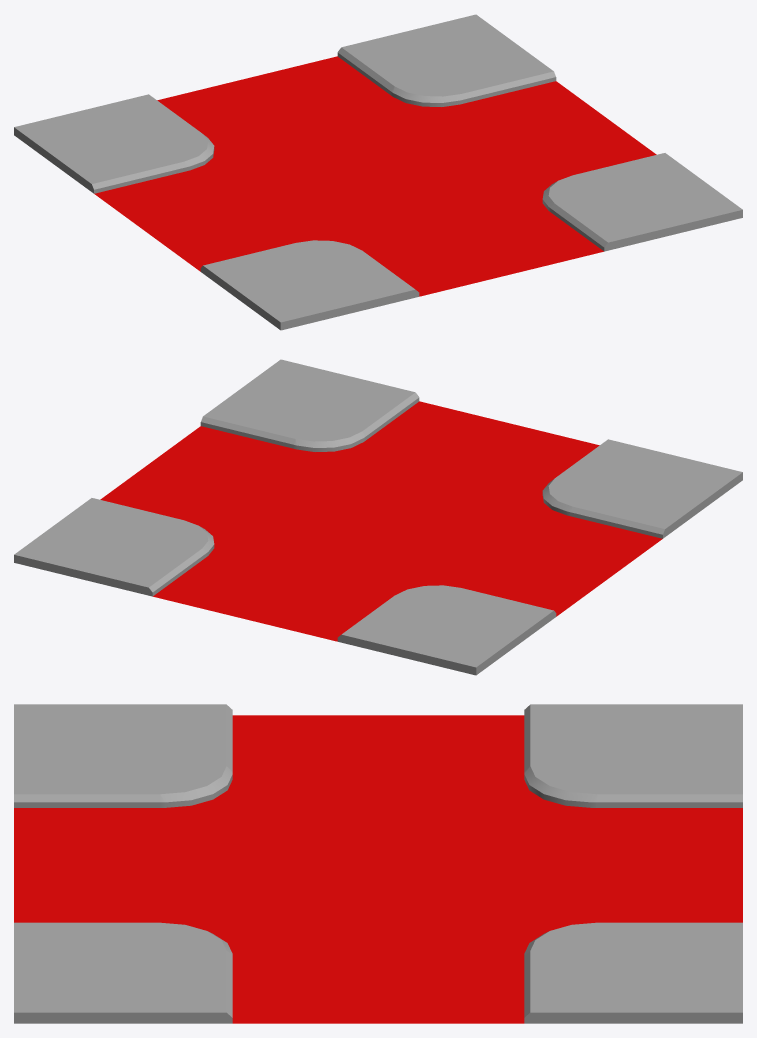
The model's file is X-tile.fbx.
The picture shows the model from 3 angles, top to bottom: view 1: azimuth 30°, elevation 25°; view 2: azimuth 150°, elevation 25°; view 3: azimuth 270°, elevation 25°; orthographic projection. The views are drawn at different scales.
Visible parts, largest first — view 1: X_high_tile; view 2: X_high_tile; view 3: X_high_tile.
Part boxes in pixels (x1,y1,x2,y2): X_high_tile: (14,14,742,330); X_high_tile: (14,359,742,675); X_high_tile: (14,704,742,1023).
Bounding box in the file's own units: 1300 × 21.69 × 1300.
